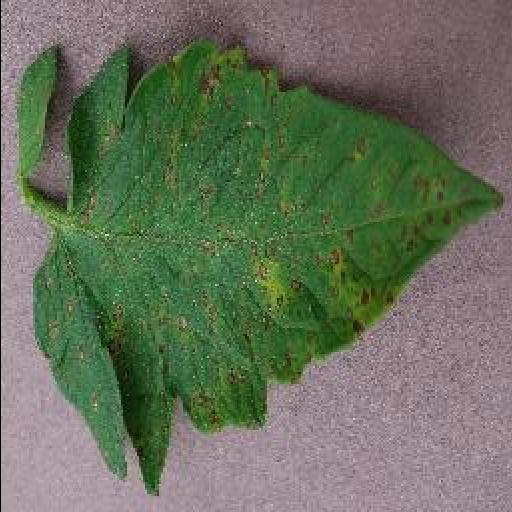disease_tomato: (35, 39, 505, 495)
